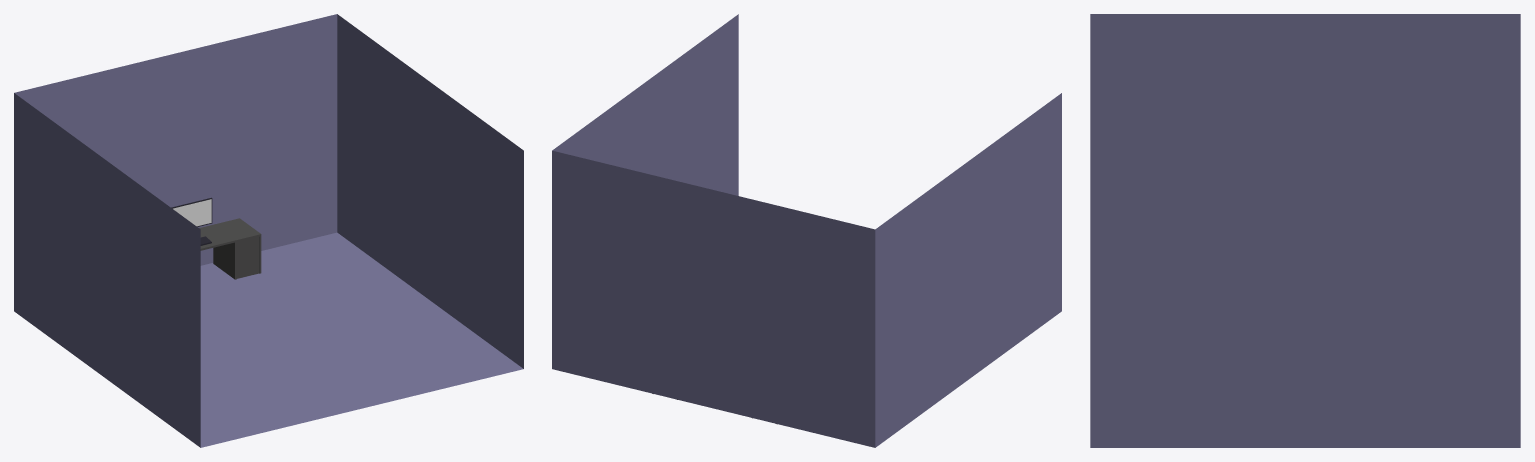
Rendered from DeskWithRoom.glb.
The picture shows the model from 3 angles, left to right: view 1: azimuth 30°, elevation 25°; view 2: azimuth 150°, elevation 25°; view 3: azimuth 270°, elevation 25°; orthographic projection. The views are drawn at different scales.
Parts seen in each view (by area): view 1: Room, Desk, DisplayH; view 2: Room; view 3: Room.
Part boxes in pixels (x1,y1,x2,y2): Room: (14,14,523,447); Desk: (199,218,261,279); DisplayH: (173,199,211,226); Room: (552,14,1061,447); Room: (1090,14,1520,447).
Size of the model in its own units: 17.23 by 11.21 by 17.23.
